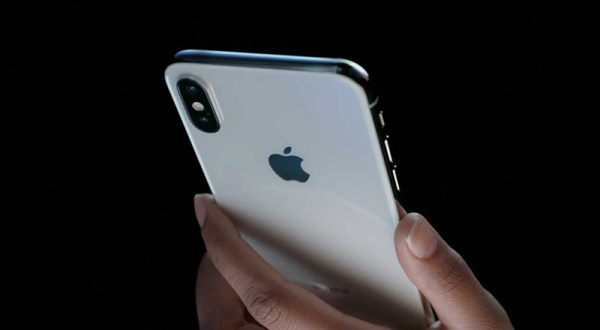apple: (257, 136, 315, 192)
